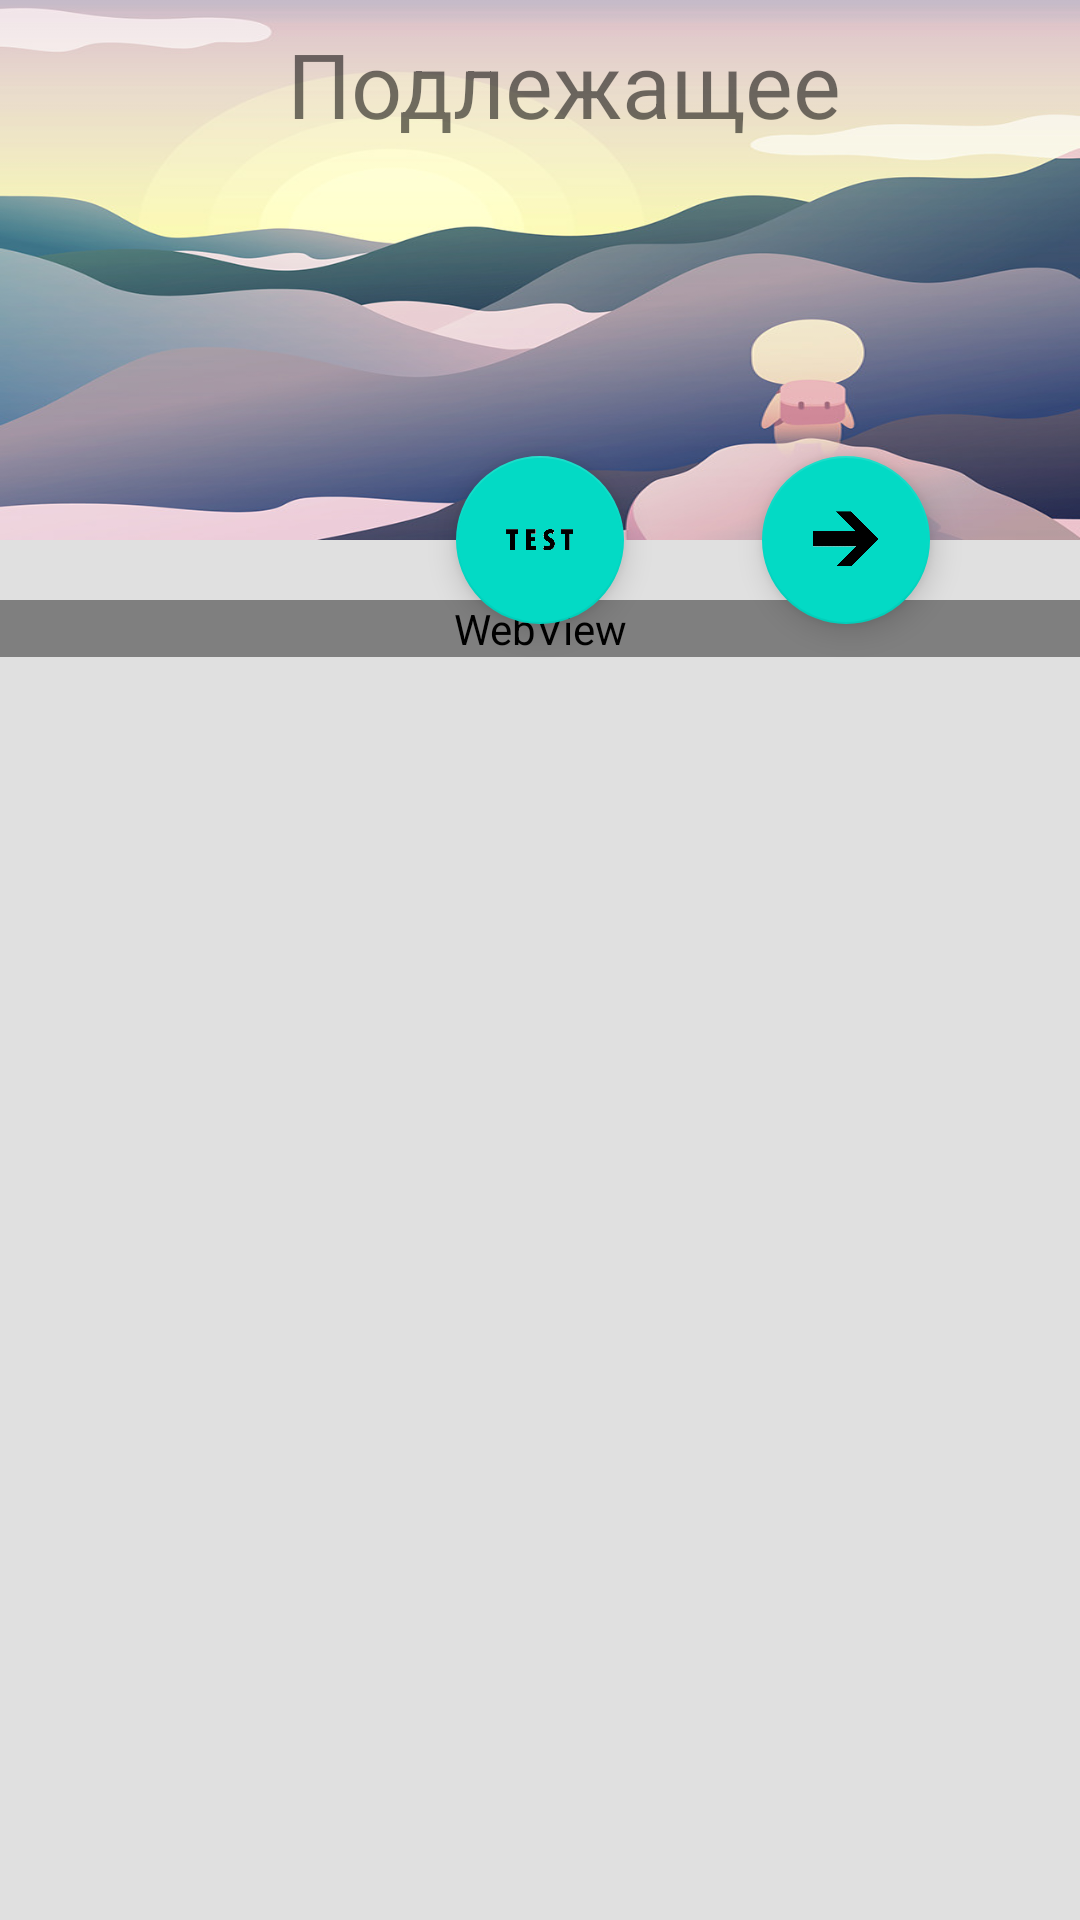

Icon click points for this 1080px×1920px phone screenshot, format (x=x, y=y):
arrowright: (x=846, y=540)
